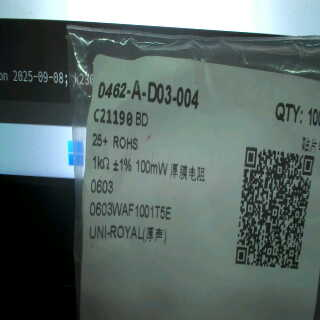1kR: (87, 152, 114, 174)
